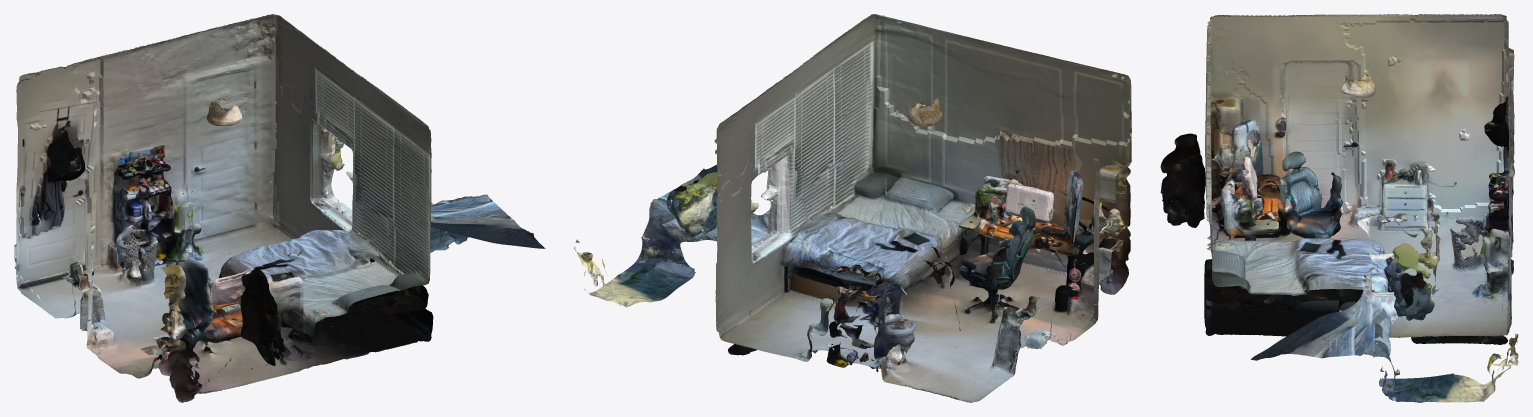
The picture shows the model from 3 angles, left to right: view 1: azimuth 30°, elevation 25°; view 2: azimuth 150°, elevation 25°; view 3: azimuth 270°, elevation 25°; orthographic projection. The views are drawn at different scales.
Size of the model in its own units: 5.41 by 2.94 by 4.32.
Materials: 3 (3 with a texture image).
